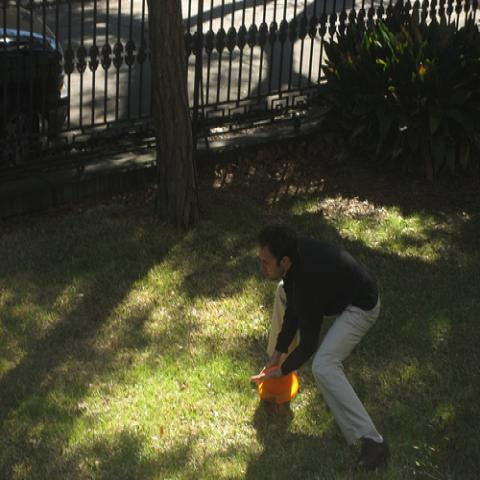car: (2, 2, 70, 145)
